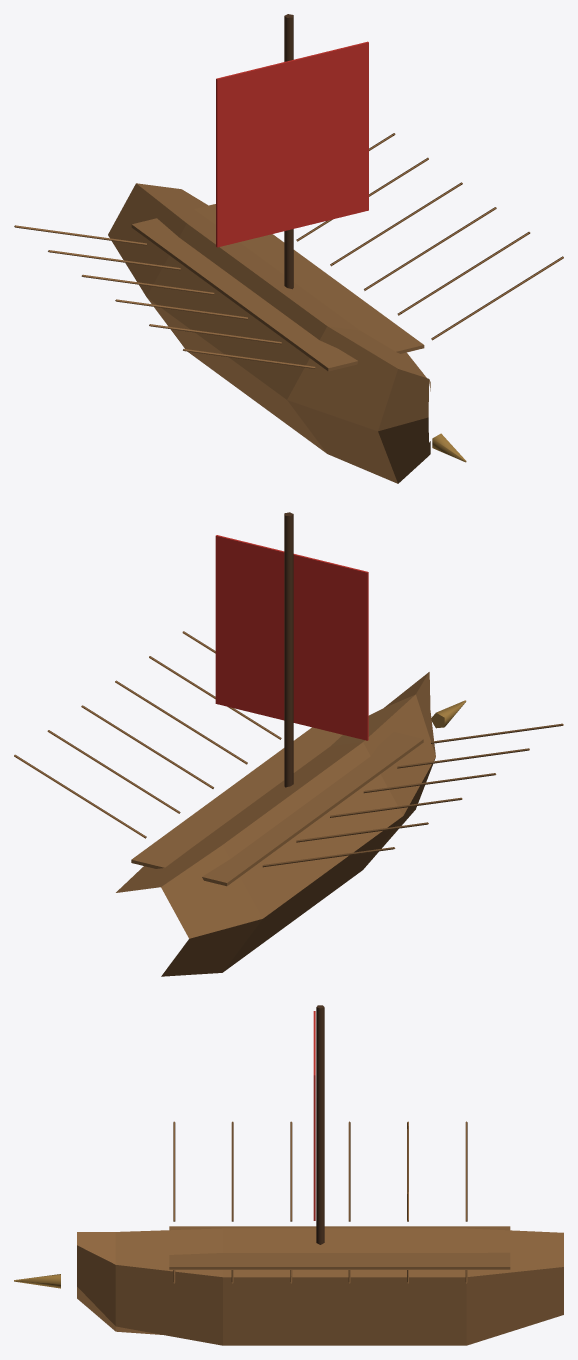
The model's file is veh_naval_warship_a02_lod1.glb.
3 renders of one model, top to bottom at view 1: azimuth 30°, elevation 25°; view 2: azimuth 150°, elevation 25°; view 3: azimuth 270°, elevation 25°, orthographic. The views are drawn at different scales.
Parts seen in each view (by area): view 1: body, sail_0; view 2: body, sail_0; view 3: body, sail_0.
Part boxes in pixels (x1=…): body: x1=14, y1=14, x2=563, y2=483; sail_0: x1=216, y1=41, x2=368, y2=247; body: x1=14, y1=512, x2=563, y2=976; sail_0: x1=215, y1=535, x2=368, y2=740; body: x1=14, y1=1005, x2=563, y2=1345; sail_0: x1=313, y1=1011, x2=315, y2=1220.
Size of the model in its own units: 9.7 by 9.56 by 14.
